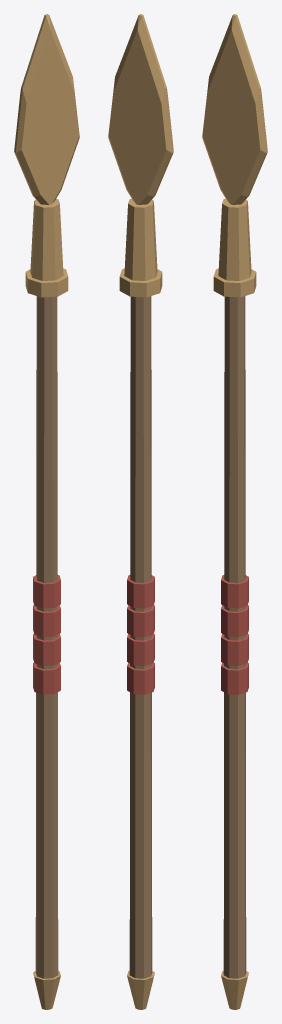
File: lanza_bronce.glb
The picture shows the model from 3 angles, left to right: view 1: azimuth 30°, elevation 25°; view 2: azimuth 150°, elevation 25°; view 3: azimuth 330°, elevation 25°; orthographic projection.
Parts seen in each view (by area): view 1: lanza_bronce; view 2: lanza_bronce; view 3: lanza_bronce.
Boxes of the visible parts, x1,y1,x2,y2 form: lanza_bronce: [14, 14, 79, 1009]; lanza_bronce: [108, 14, 173, 1009]; lanza_bronce: [202, 14, 267, 1009].
Size of the model in its own units: 0.14 by 2.07 by 0.0836.
